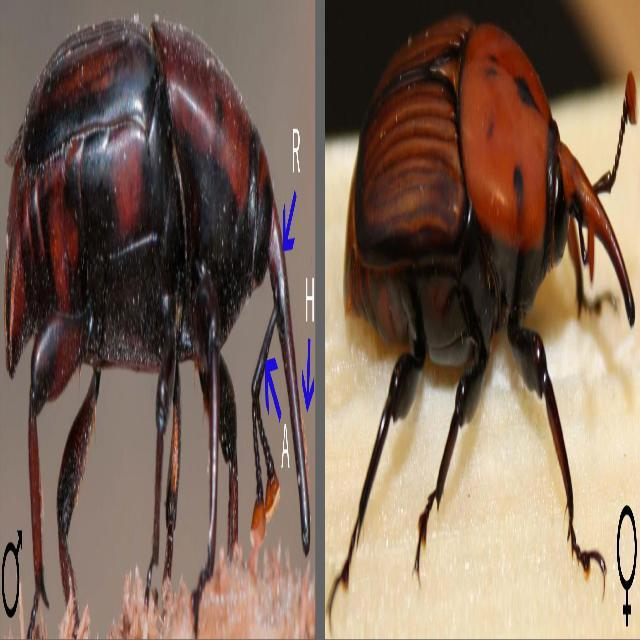Red-palm-weevil: (320, 0, 640, 552), (7, 16, 295, 536)
